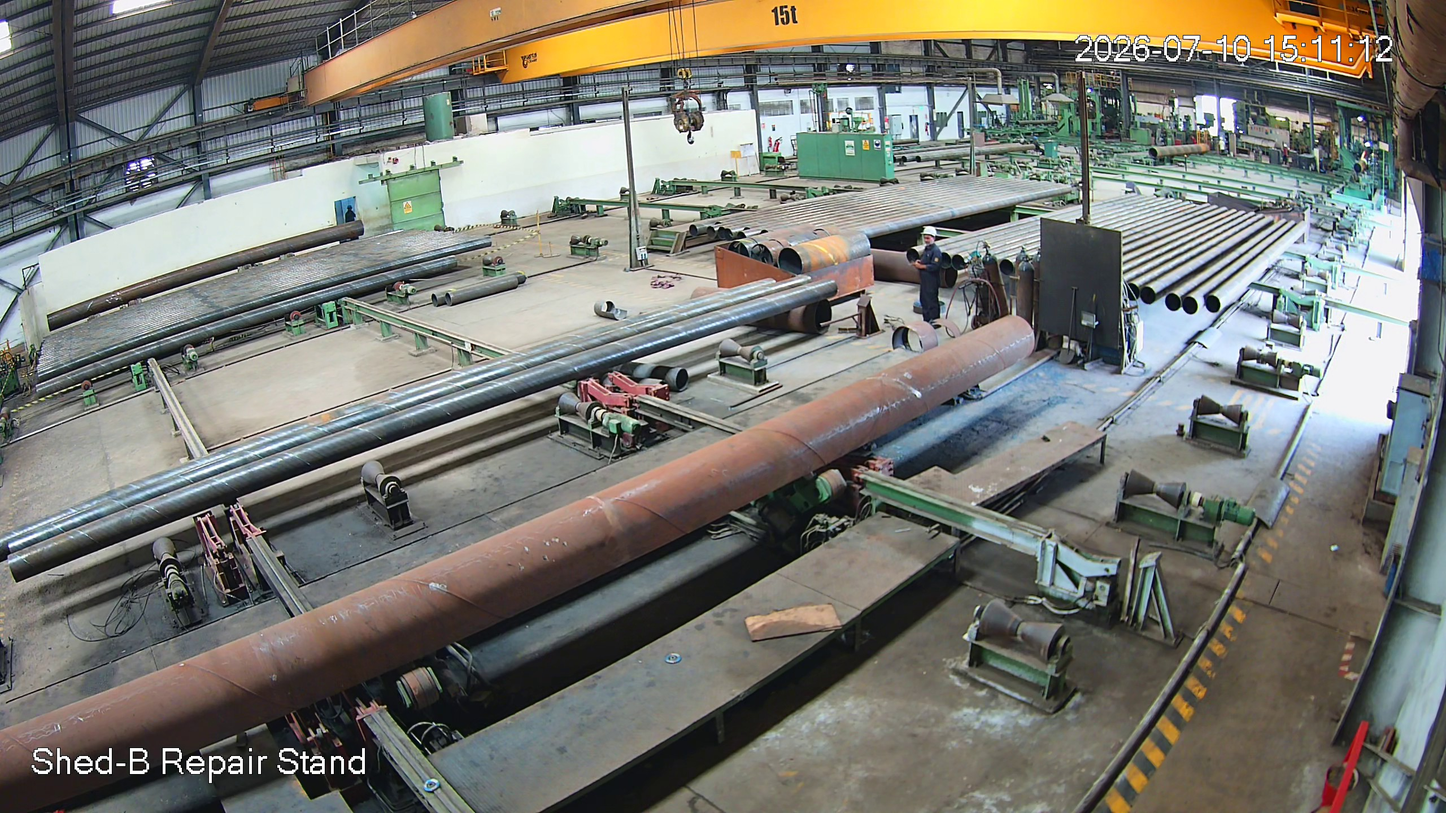Helmet: (921, 224, 942, 251)
Person: (915, 226, 944, 324)
